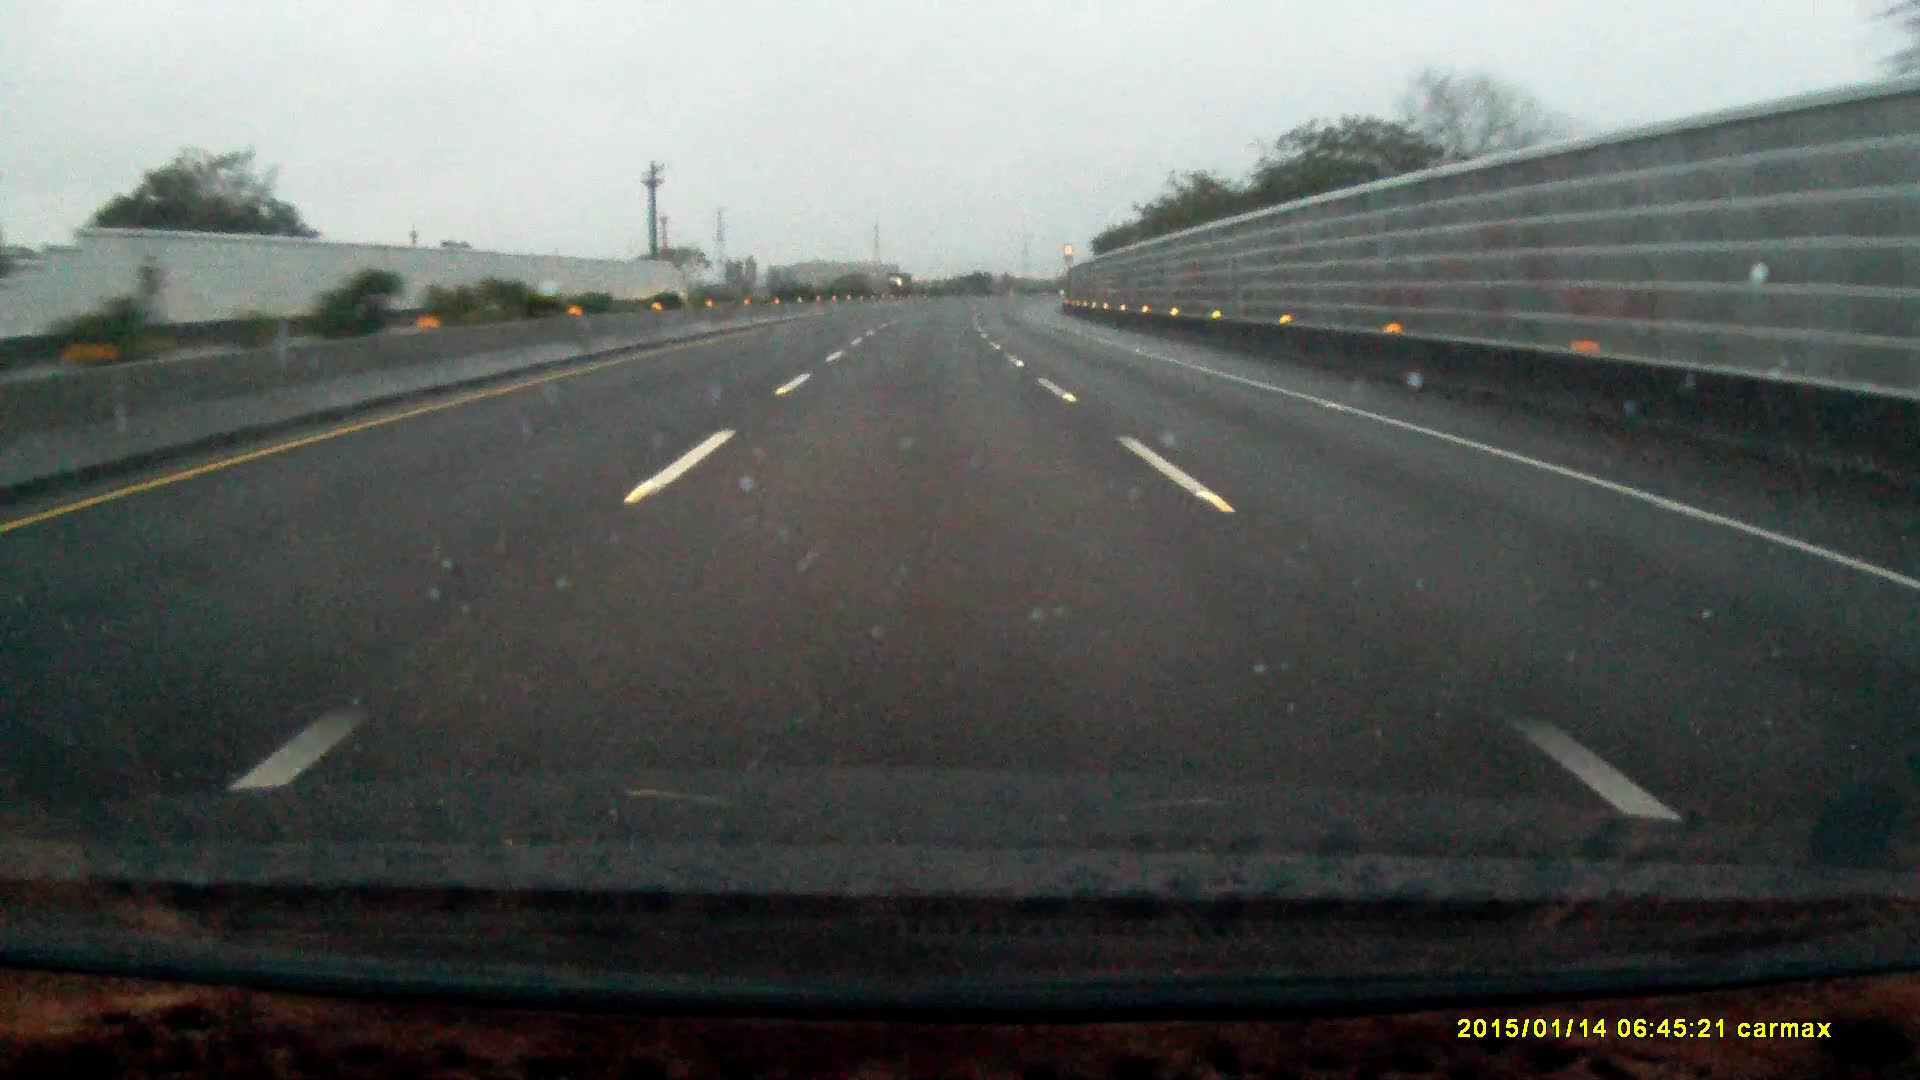vehicle: (887, 274, 914, 297)
